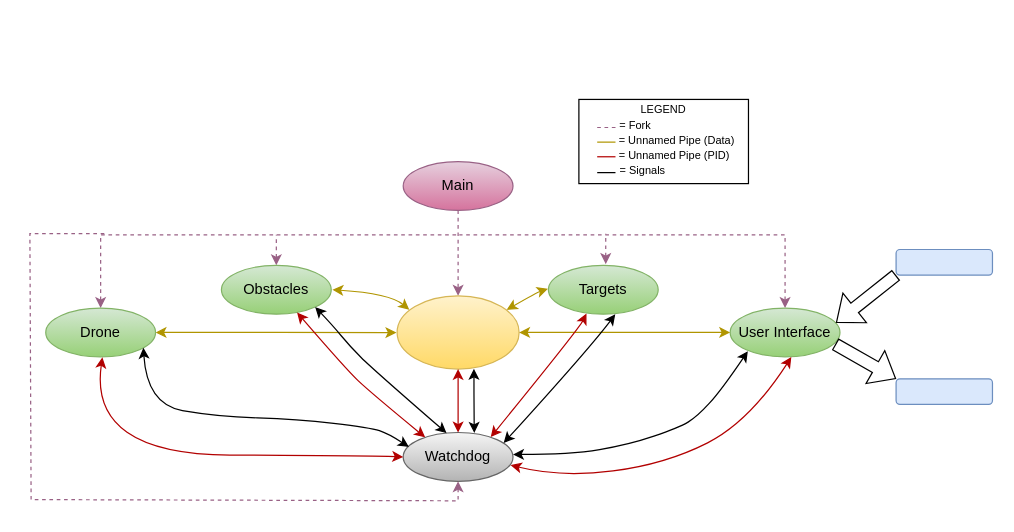
Image size: 1014x532. Some labels were removed from this diagram. Each missing label, with the box of its shape:
Server (blackboard): (396, 295, 519, 369)
User Input: (895, 248, 992, 275)
Visual Output: (895, 378, 992, 404)
